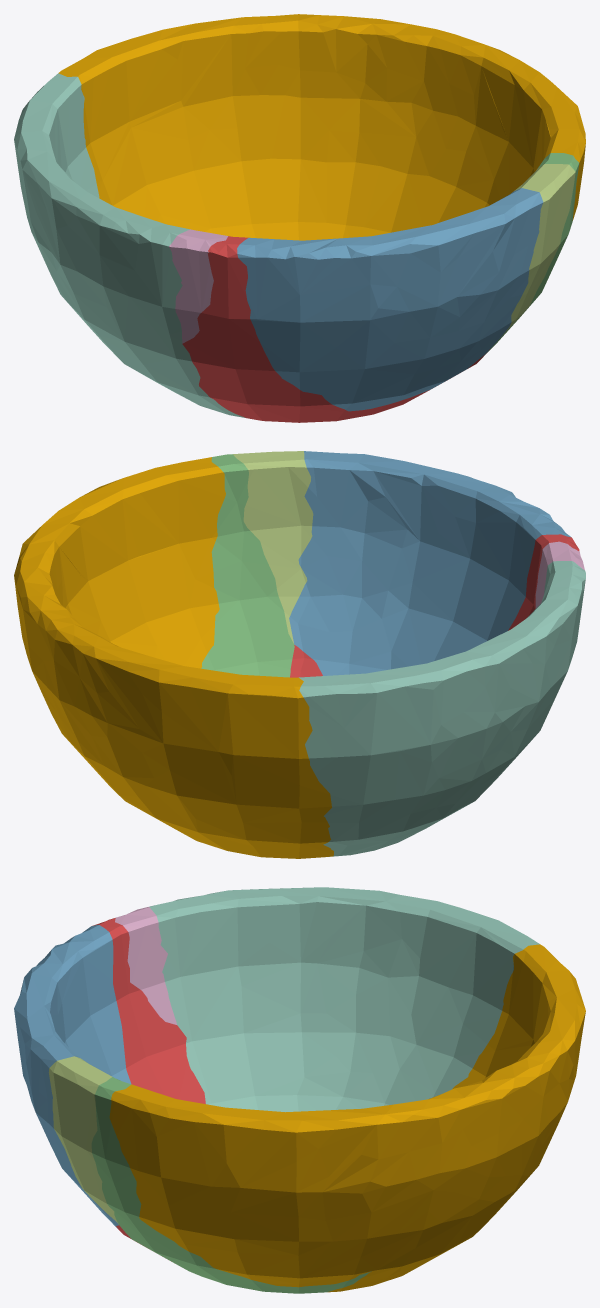
File: fractured_46_8pcs.glb
3 views of the same model, one above another, from view 1: azimuth 30°, elevation 25°; view 2: azimuth 150°, elevation 25°; view 3: azimuth 270°, elevation 25° (orthographic).
Visible parts, largest first — view 1: piece_0.obj, piece_2.obj, piece_4.obj, piece_1.obj, piece_5.obj, piece_6.obj, piece_3.obj; view 2: piece_0.obj, piece_2.obj, piece_4.obj, piece_3.obj, piece_5.obj, piece_1.obj, piece_6.obj; view 3: piece_0.obj, piece_4.obj, piece_2.obj, piece_1.obj, piece_3.obj, piece_5.obj, piece_6.obj.
Part boxes in pixels (x1=…): piece_0.obj: x1=58, y1=14, x2=585, y2=240; piece_2.obj: x1=237, y1=188, x2=543, y2=411; piece_4.obj: x1=14, y1=73, x2=245, y2=417; piece_1.obj: x1=182, y1=236, x2=489, y2=422; piece_5.obj: x1=500, y1=164, x2=575, y2=337; piece_6.obj: x1=169, y1=229, x2=228, y2=343; piece_3.obj: x1=482, y1=153, x2=579, y2=357; piece_0.obj: x1=14, y1=457, x2=333, y2=858; piece_2.obj: x1=289, y1=451, x2=570, y2=675; piece_4.obj: x1=299, y1=561, x2=585, y2=856; piece_3.obj: x1=201, y1=454, x2=294, y2=677; piece_5.obj: x1=233, y1=451, x2=313, y2=643; piece_1.obj: x1=290, y1=534, x2=579, y2=677; piece_6.obj: x1=535, y1=541, x2=584, y2=608; piece_0.obj: x1=109, y1=944, x2=585, y2=1292; piece_4.obj: x1=149, y1=887, x2=539, y2=1112; piece_2.obj: x1=14, y1=925, x2=131, y2=1228; piece_1.obj: x1=92, y1=918, x2=205, y2=1261; piece_3.obj: x1=91, y1=1077, x2=371, y2=1293; piece_5.obj: x1=48, y1=1056, x2=118, y2=1224; piece_6.obj: x1=115, y1=907, x2=176, y2=1024.
Size of the model in its own units: 0.9989 by 0.5115 by 1.
